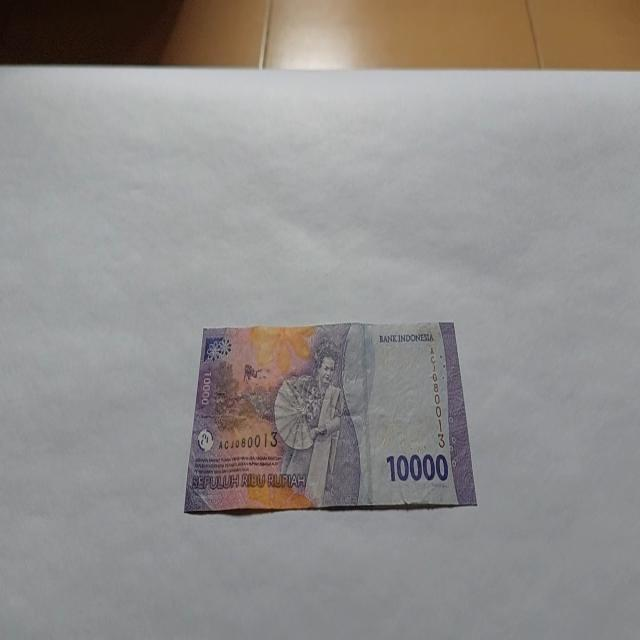sepuluh ribu rupiah: (182, 318, 478, 516)
